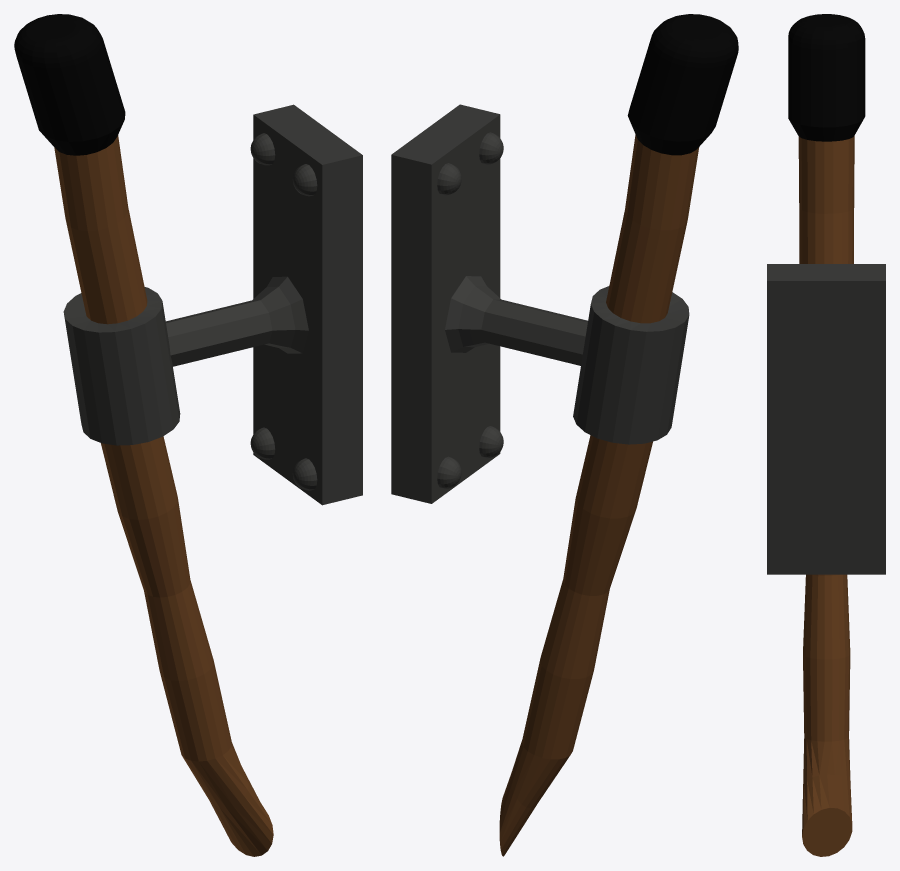
The model's file is Wall Torch Basic.fbx.
The picture shows the model from 3 angles, left to right: view 1: azimuth 30°, elevation 25°; view 2: azimuth 150°, elevation 25°; view 3: azimuth 270°, elevation 25°; orthographic projection. The views are drawn at different scales.
Visible parts, largest first — view 1: Wandfackel arm; view 2: Wandfackel arm; view 3: Wandfackel arm.
Part boxes in pixels (left/top/right/bottom): Wandfackel arm: left=14, top=14, right=362, bottom=856; Wandfackel arm: left=391, top=14, right=738, bottom=856; Wandfackel arm: left=767, top=14, right=885, bottom=856.
Size of the model in its own units: 32.48 by 88.45 by 12.59.
